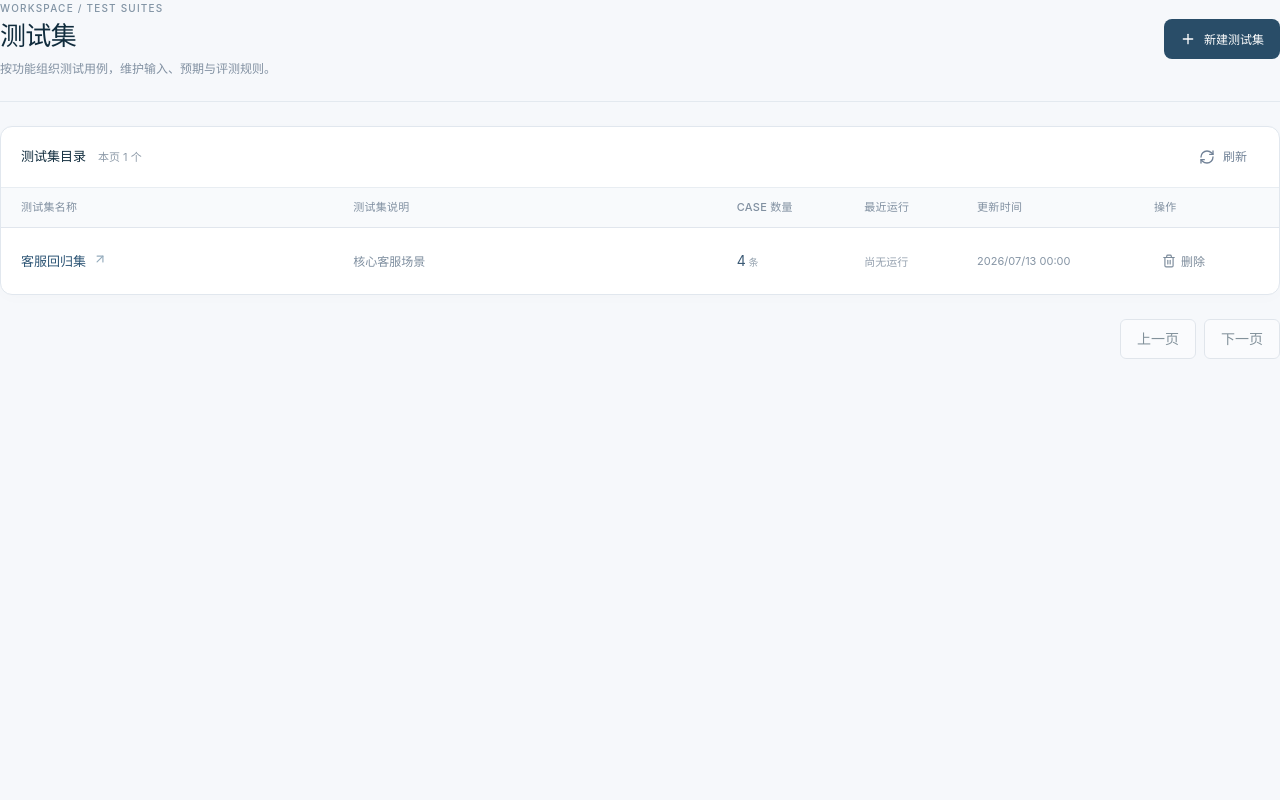
Scenario: 测试集列表页面 › 列表删除先确认影响，运行中保护=false
The width and height of the screenshot is (1280, 800).
Click the button with aria-label "删除测试集 · 客服回归集" at [1184, 261], box [1154, 245, 1213, 277]
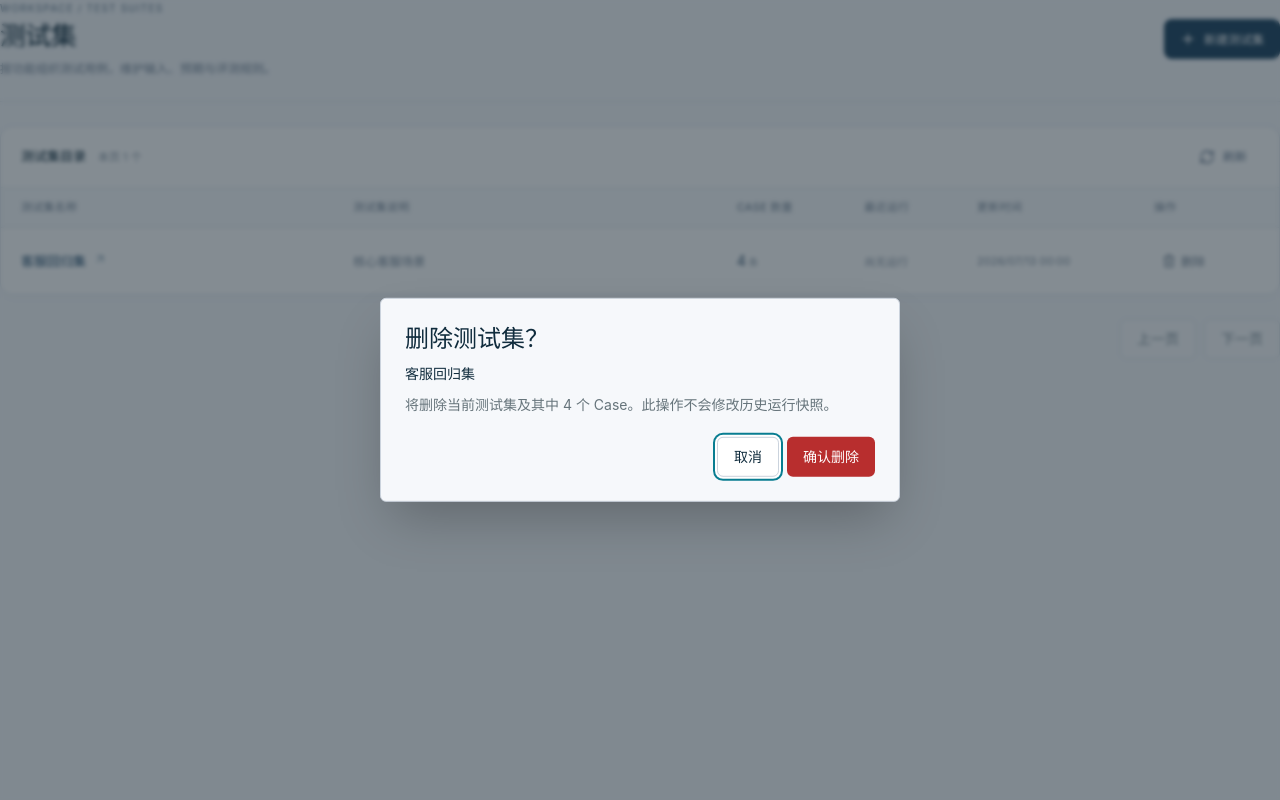
Check: the dialog shows "客服回归集", box [405, 365, 475, 382]
Check: the dialog shows "4 个 Case", box [405, 396, 838, 413]
Check: the dialog shows "不会修改历史运行快照", box [405, 396, 838, 413]
Click the button "确认删除" at [831, 457], box [787, 437, 875, 477]
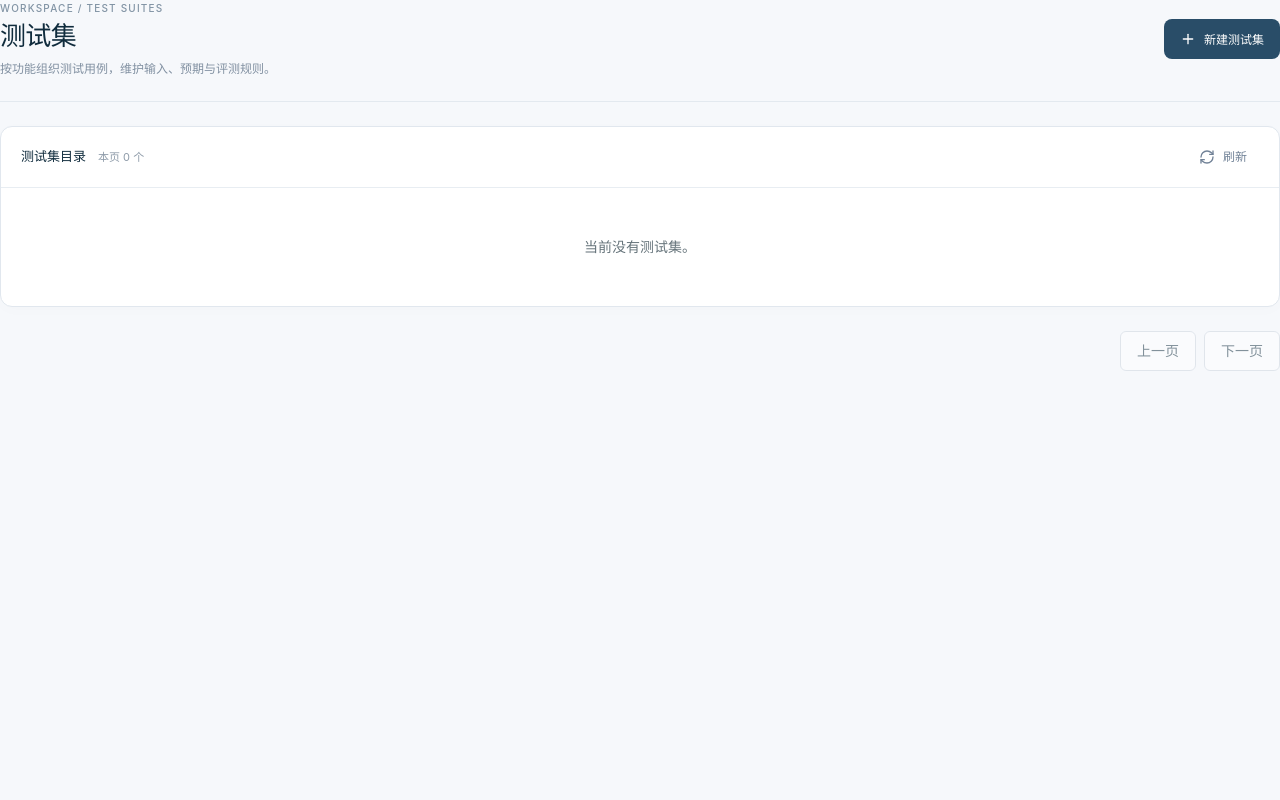
Check: the link "客服回归集" is gone
